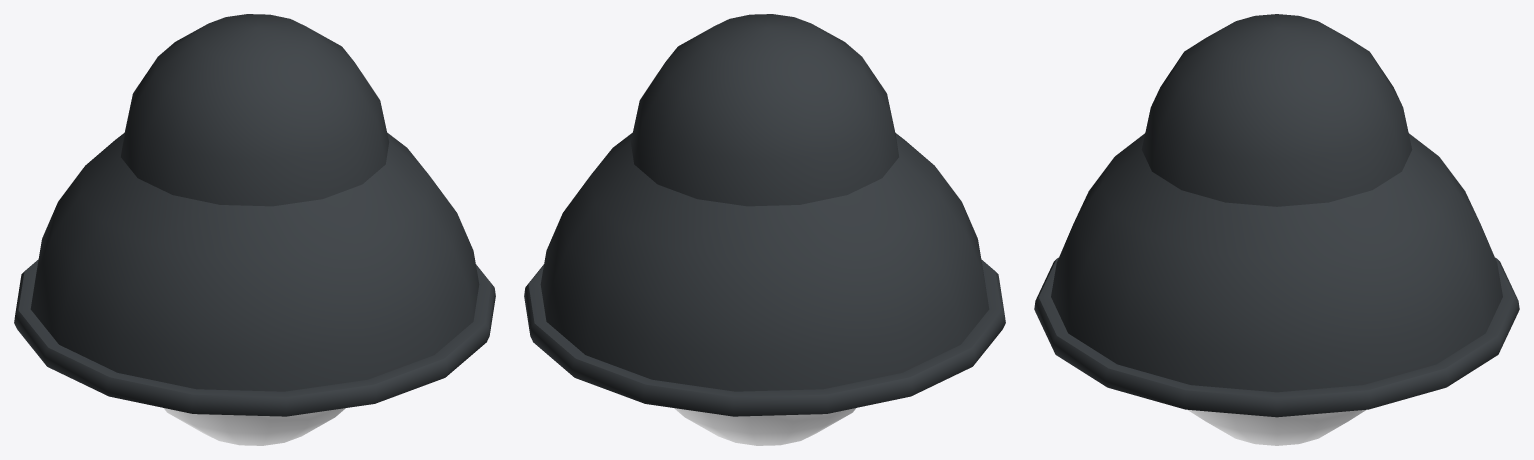
File: Freiburg.glb
3 renders of one model, left to right at view 1: azimuth 30°, elevation 25°; view 2: azimuth 150°, elevation 25°; view 3: azimuth 270°, elevation 25°, orthographic.
Visible parts, largest first — view 1: BezierCurve.002, Glas.001; view 2: BezierCurve.002, Glas.001; view 3: BezierCurve.002, Glas.001.
Boxes of the visible parts, left/top/right/bottom form: BezierCurve.002: left=14, top=14, right=495, bottom=416; Glas.001: left=164, top=408, right=345, bottom=445; BezierCurve.002: left=524, top=14, right=1005, bottom=416; Glas.001: left=674, top=408, right=855, bottom=445; BezierCurve.002: left=1034, top=14, right=1519, bottom=417; Glas.001: left=1187, top=409, right=1366, bottom=445.
Size of the model in its own units: 0.5411 by 0.5001 by 0.5411.
3 materials, 2 textured.
